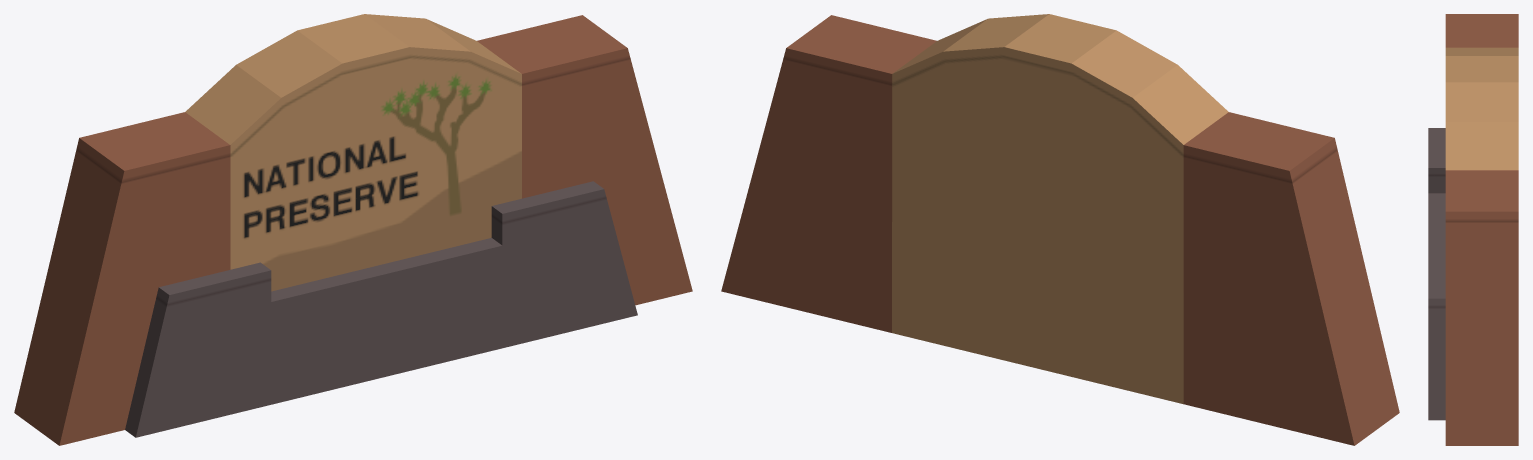
File: west_zs01.FBX
3 views of the same model, side by side, from view 1: azimuth 30°, elevation 25°; view 2: azimuth 150°, elevation 25°; view 3: azimuth 270°, elevation 25° (orthographic). The views are drawn at different scales.
Parts seen in each view (by area): view 1: west_zs01; view 2: west_zs01; view 3: west_zs01.
Boxes of the visible parts, <box> form: west_zs01: <box>14,14,692,445</box>; west_zs01: <box>721,14,1399,445</box>; west_zs01: <box>1428,14,1518,445</box>.
Size of the model in its own units: 1618 by 765 by 248.
